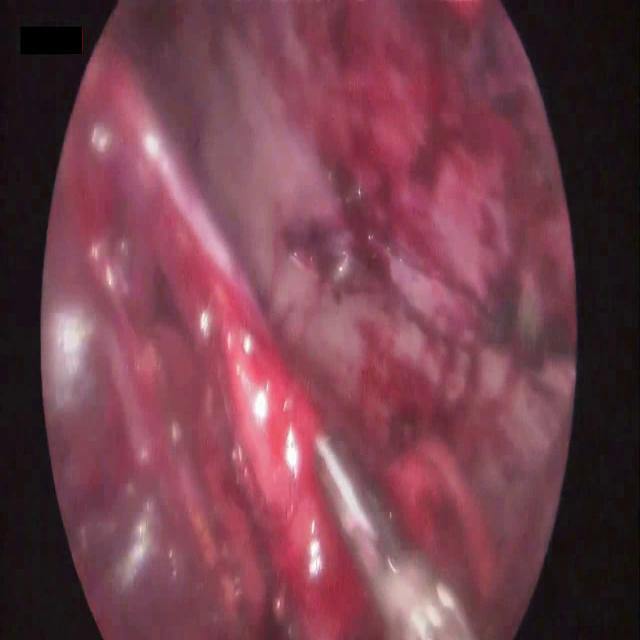surgical-area: (37, 1, 580, 639)
surgical-tool: (309, 430, 490, 639)
